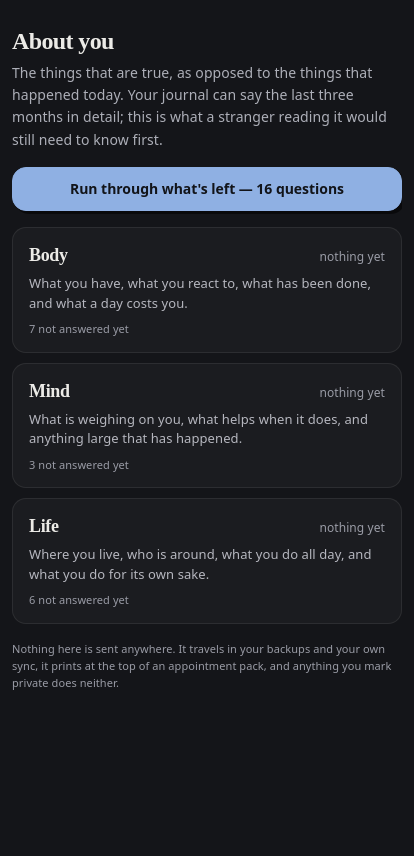
Test case: the run-through › offers one question at a time with the count beside it
This screenshot has width=414, height=856.
What coordinates should you click on to do the following:
click the button "Run through what's left — 16 questions"
I would click on:
 (207, 189)
Its box is x1=12 y1=167 x2=402 y2=211.
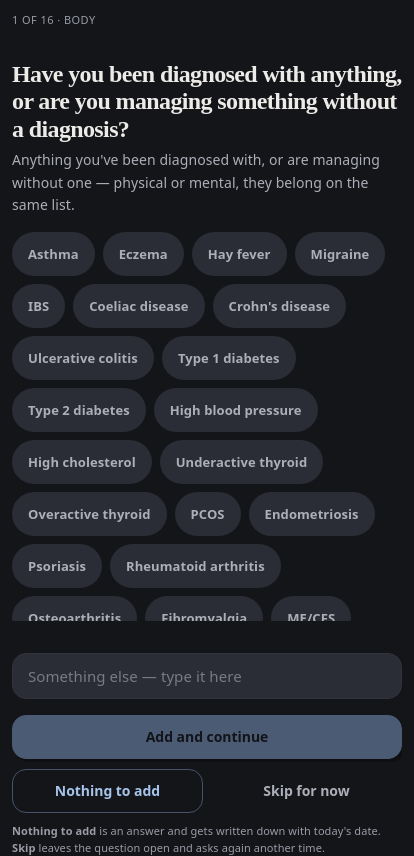
Now the text "Anything you've been diagnosed with, or are managing without one — physical or mental, they belong on the same list." is shown, box x1=12 y1=150 x2=380 y2=214
